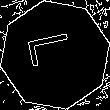L_E: (27, 35, 83, 75)
